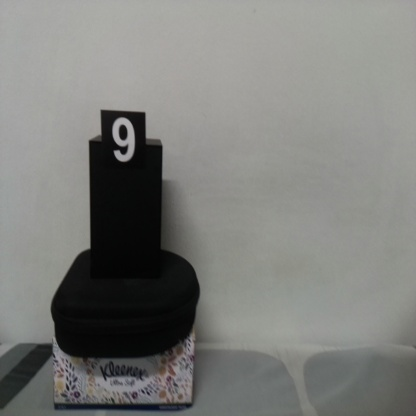id_9: (101, 110, 145, 182)
